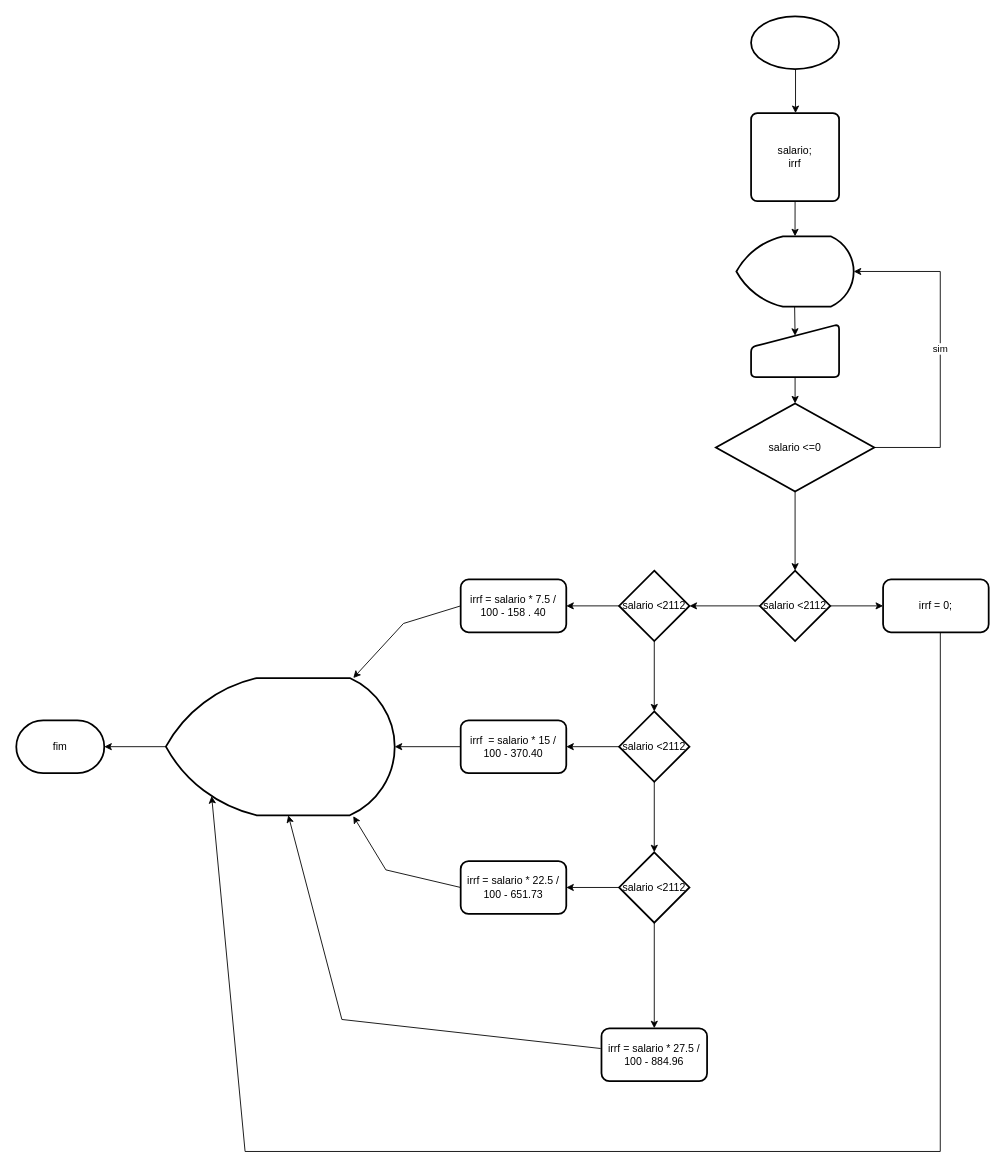
This 1004x1174 diagram has some shape labels left out. The shapes that lost their labels are listed below. From the top down, each one's centre as x and y in pixels, then its label:
point 795,42: inicio
point 794,271: Digite o salario do funcionario
point 795,350: salario;
point 280,746: ("O IRRF(Imposto de Renda Retido na Fonte) é %.2f, irrf);
